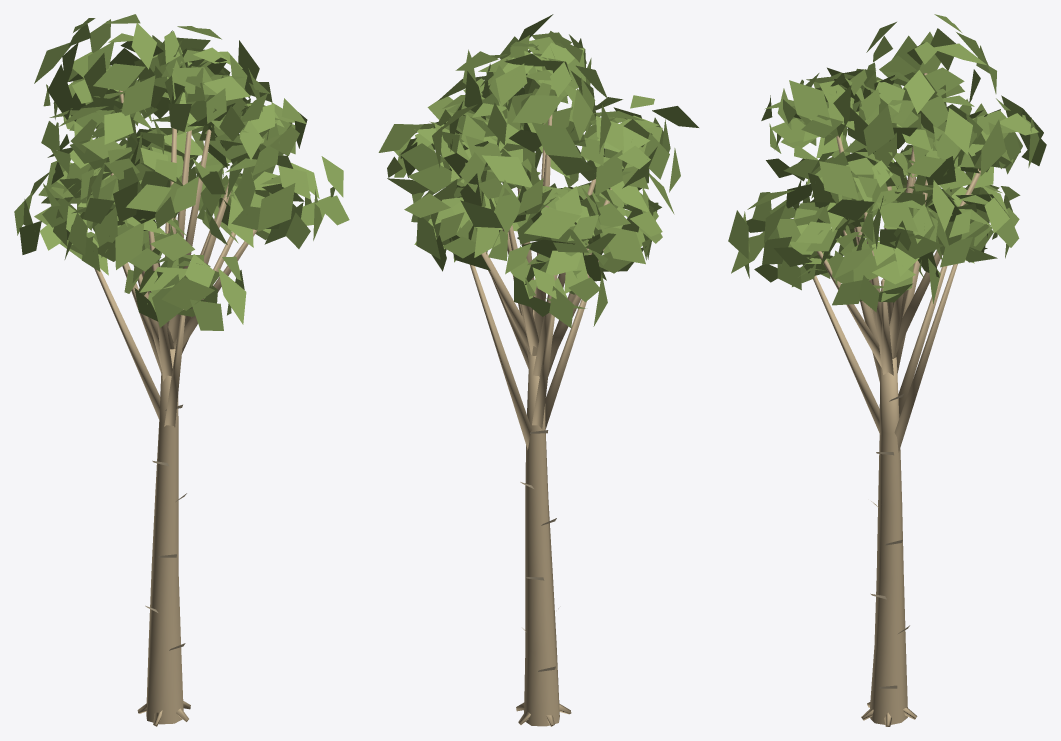
The model's file is birch-single-lod1.glb.
The picture shows the model from 3 angles, left to right: view 1: azimuth 30°, elevation 25°; view 2: azimuth 150°, elevation 25°; view 3: azimuth 270°, elevation 25°; orthographic projection.
Visible parts, largest first — view 1: tree_birch-single_LOD1; view 2: tree_birch-single_LOD1; view 3: tree_birch-single_LOD1.
Part boxes in pixels (x1=…): tree_birch-single_LOD1: x1=14, y1=14, x2=349, y2=726; tree_birch-single_LOD1: x1=378, y1=14, x2=698, y2=726; tree_birch-single_LOD1: x1=728, y1=14, x2=1046, y2=726.
Bounding box in the file's own units: 4.75 × 12.61 × 5.32.
